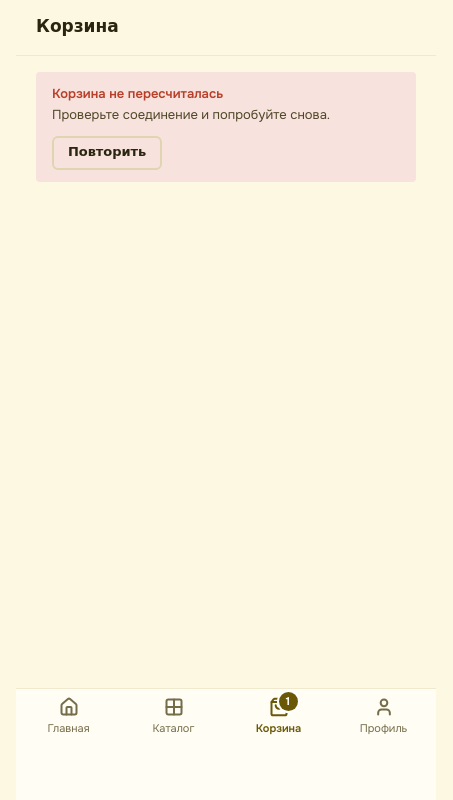
Test: CartScreen — пересчёт не удался › объясняет сбой и даёт повторить, не теряя корзину
The image size is (453, 800).
Check: the text "Корзина не пересчиталась" is shown, box top-left (52, 85), bottom-right (223, 102)
Step 1. Click the button "Повторить" → {"x": 107, "y": 153}, box top-left (52, 136), bottom-right (162, 170)
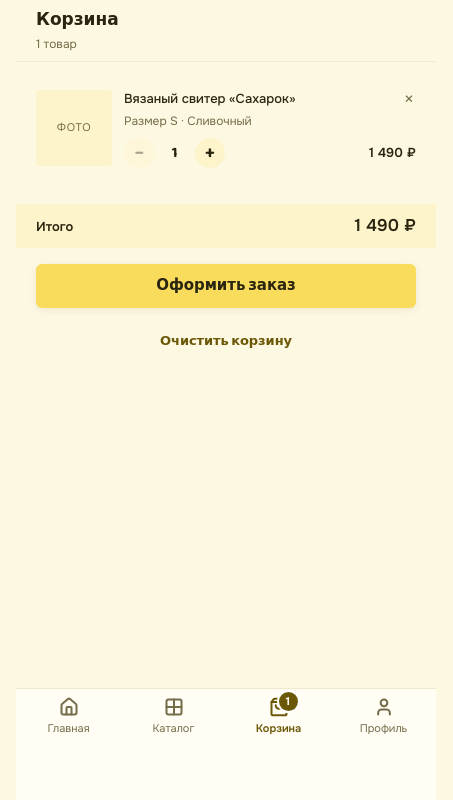
Check: the text "Вязаный свитер «Сахарок»" is shown, box top-left (124, 90), bottom-right (296, 106)
